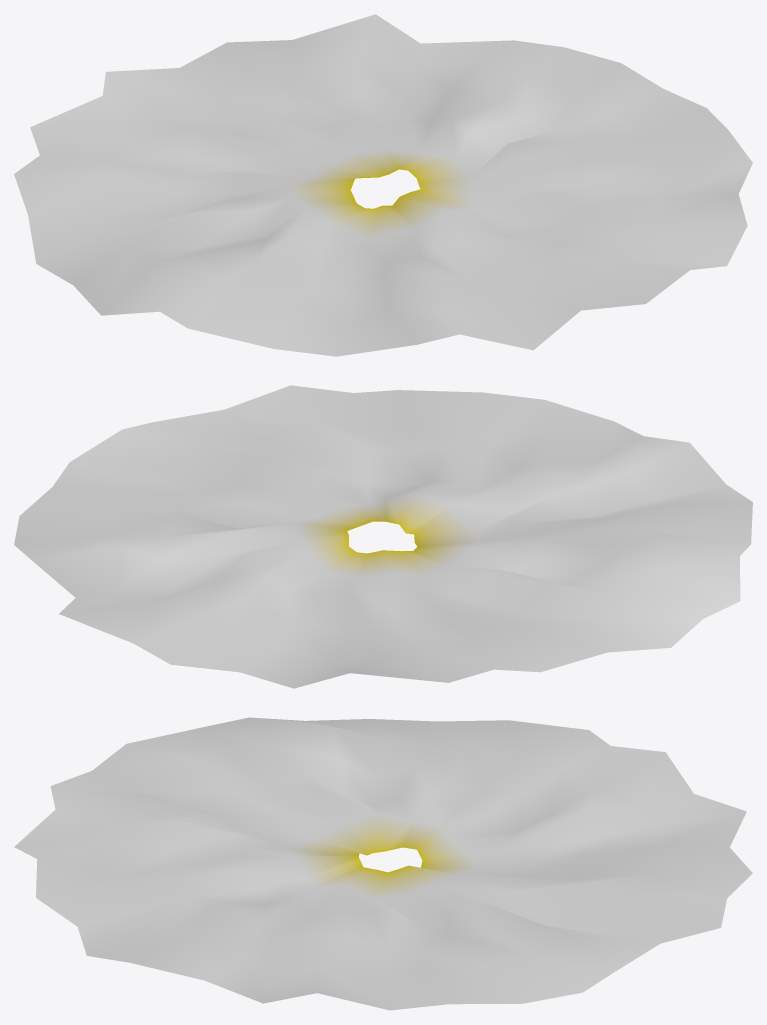
Rendered from Skill-1012-dashangsanjun_002.FBX.
3 views of the same model, one above another, from view 1: azimuth 30°, elevation 25°; view 2: azimuth 150°, elevation 25°; view 3: azimuth 270°, elevation 25° (orthographic). The views are drawn at different scales.
Visible parts, largest first — view 1: skill_1071_qisihuisheng_Animator_01; view 2: skill_1071_qisihuisheng_Animator_01; view 3: skill_1071_qisihuisheng_Animator_01.
Part boxes in pixels (x1,y1,x2,y2): skill_1071_qisihuisheng_Animator_01: [14, 14, 752, 356]; skill_1071_qisihuisheng_Animator_01: [14, 385, 752, 688]; skill_1071_qisihuisheng_Animator_01: [14, 717, 752, 1010].
Bounding box in the file's own units: 0.9236 × 0.0389 × 0.9418.
